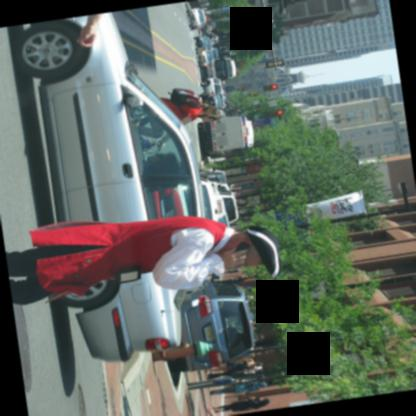backpack: (170, 88, 201, 114), (244, 385, 258, 391)
